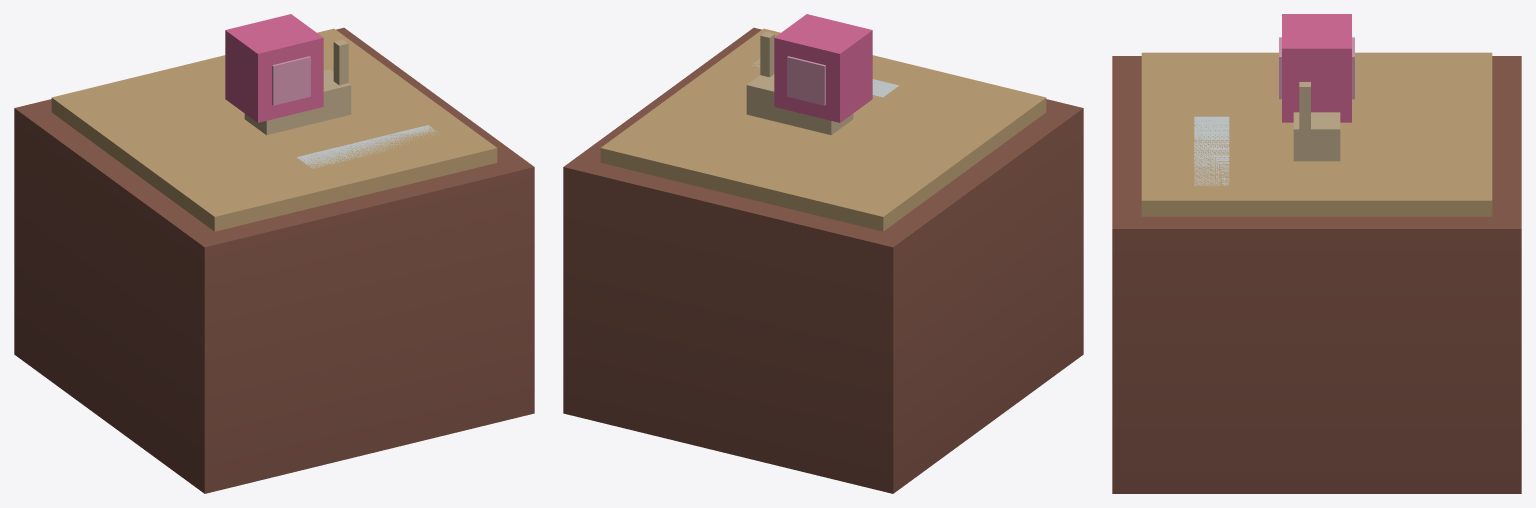
The model's file is vignette-snail-stump.glb.
3 renders of one model, left to right at view 1: azimuth 30°, elevation 25°; view 2: azimuth 150°, elevation 25°; view 3: azimuth 270°, elevation 25°, orthographic. The views are drawn at different scales.
Parts seen in each view (by area): view 1: vignette-snail-stump_body; view 2: vignette-snail-stump_body; view 3: vignette-snail-stump_body.
Part boxes in pixels (x1,y1,x2,y2): vignette-snail-stump_body: [14, 14, 534, 493]; vignette-snail-stump_body: [563, 14, 1083, 493]; vignette-snail-stump_body: [1112, 14, 1521, 493].
Size of the model in its own units: 0.7 by 0.71 by 0.7.
